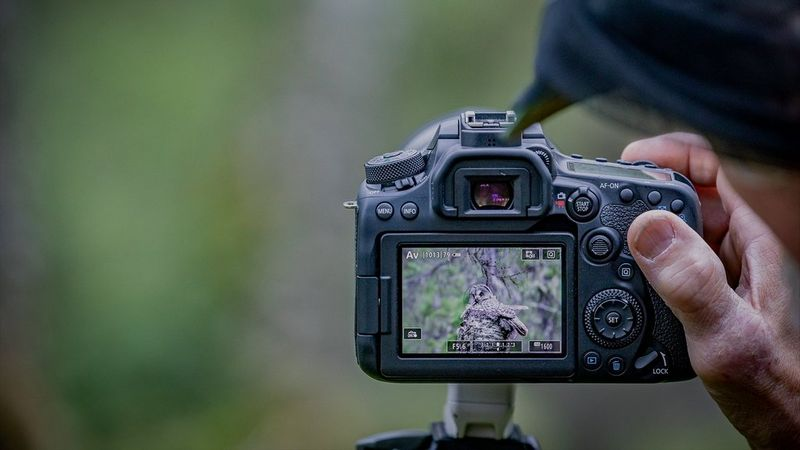camera: (354, 113, 703, 384)
